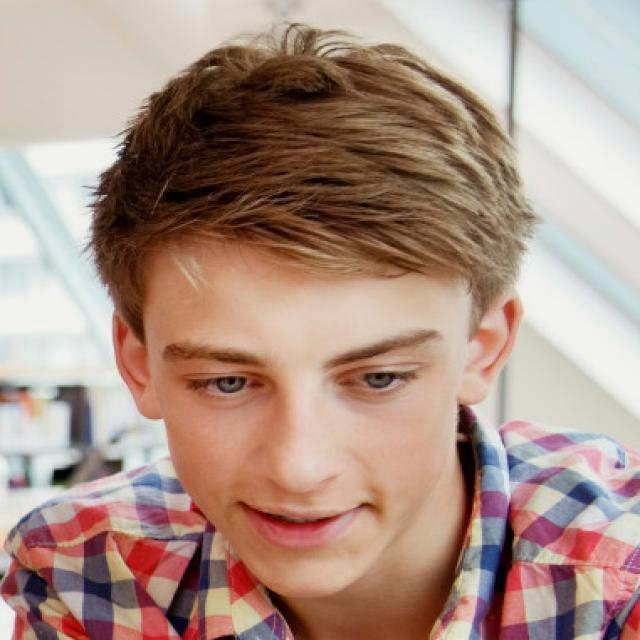Looking away: (140, 253, 468, 589)
